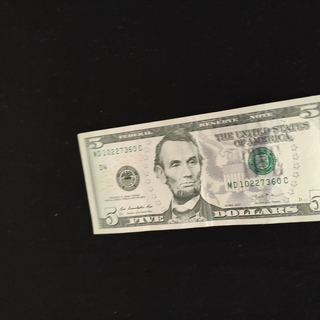5USDFront: (77, 92, 320, 235)
